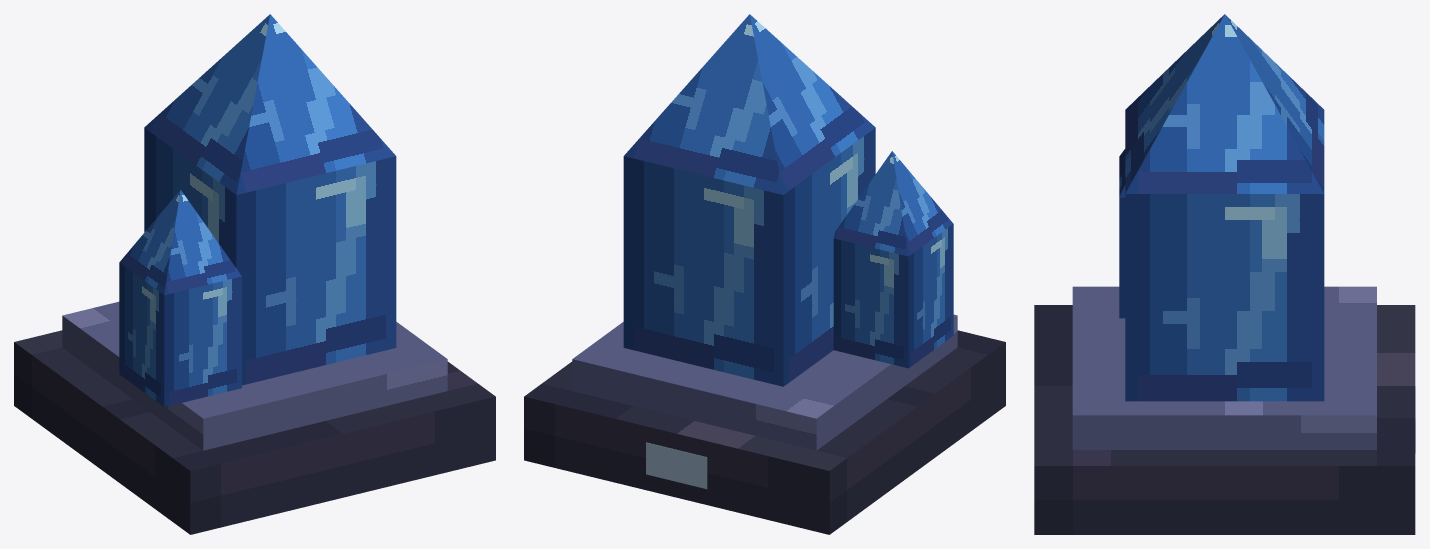
Rendered from moon_storage_crystal.obj.
3 views of the same model, side by side, from view 1: azimuth 30°, elevation 25°; view 2: azimuth 150°, elevation 25°; view 3: azimuth 270°, elevation 25° (orthographic). The views are drawn at different scales.
Visible parts, largest first — view 1: Moon_heart, Moon_foot, Moon_satellite, Moon_socket; view 2: Moon_heart, Moon_foot, Moon_socket, Moon_satellite, Channel_inlay; view 3: Moon_heart, Moon_foot, Moon_socket, Moon_satellite.
Boxes of the visible parts, x1=… form: Moon_heart: x1=144, y1=14, x2=396, y2=385; Moon_foot: x1=14, y1=330, x2=495, y2=534; Moon_satellite: x1=119, y1=189, x2=241, y2=406; Moon_socket: x1=62, y1=301, x2=447, y2=450; Moon_heart: x1=623, y1=14, x2=875, y2=386; Moon_foot: x1=524, y1=330, x2=1005, y2=534; Moon_socket: x1=572, y1=314, x2=957, y2=450; Moon_satellite: x1=833, y1=151, x2=953, y2=368; Channel_inlay: x1=646, y1=442, x2=707, y2=489; Moon_heart: x1=1125, y1=14, x2=1324, y2=401; Moon_foot: x1=1034, y1=305, x2=1415, y2=534; Moon_socket: x1=1072, y1=286, x2=1376, y2=449; Moon_satellite: x1=1119, y1=149, x2=1125, y2=318.
Bounding box in the file's own units: 0.625 × 0.8125 × 0.6256.
